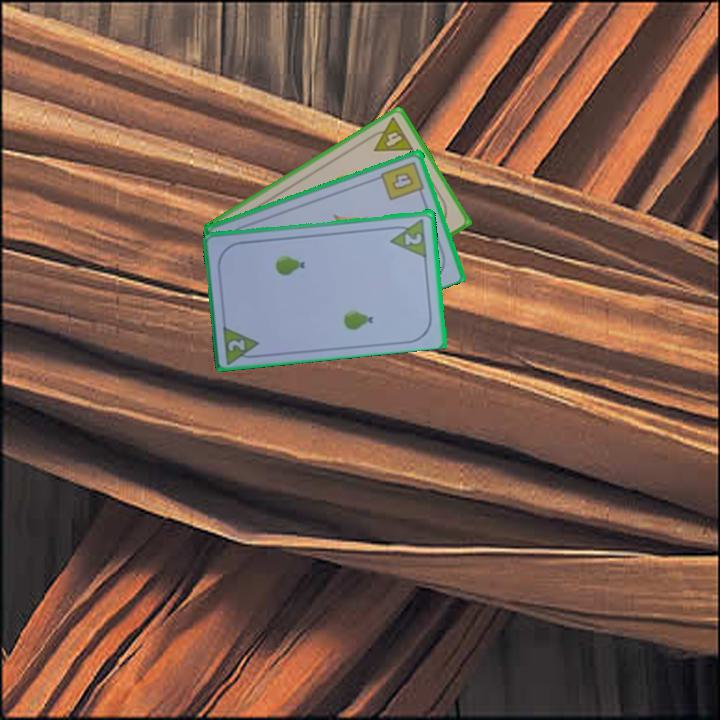2p: (219, 321, 264, 365), (401, 229, 425, 248)
4b: (378, 157, 427, 203)
4p: (363, 114, 417, 155)
